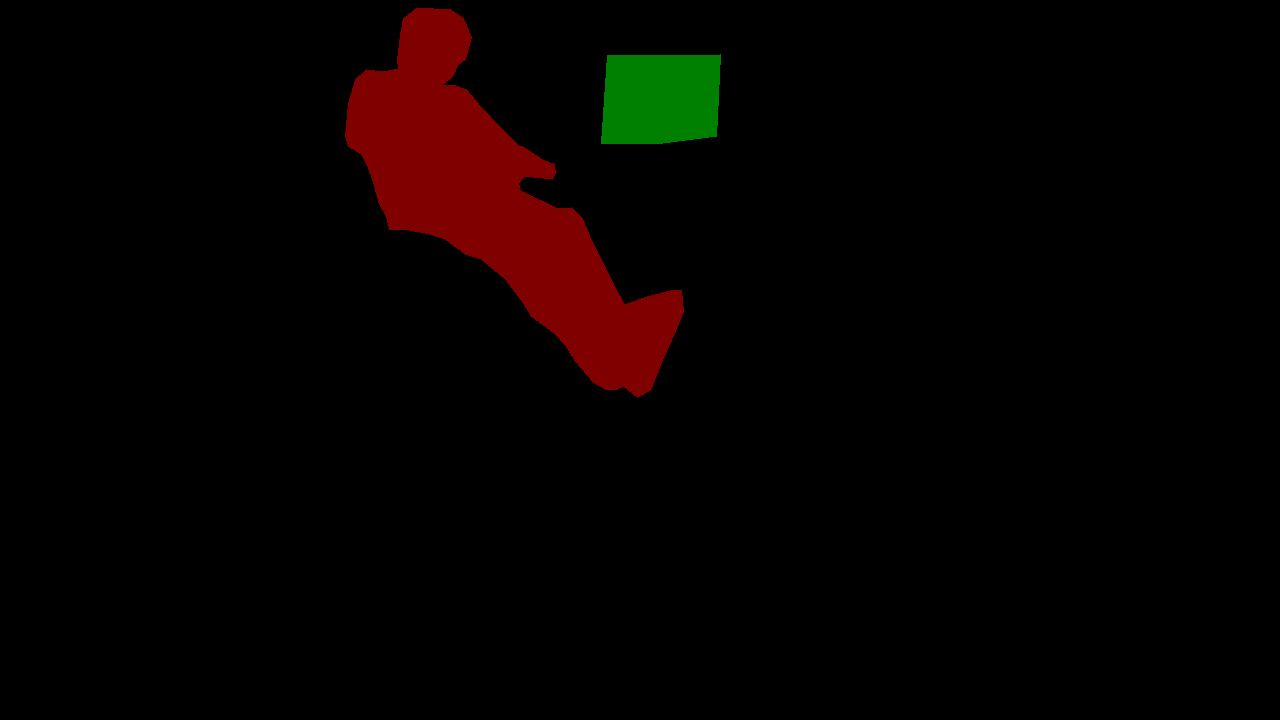person: (345, 7, 683, 397)
tvmonitor: (601, 54, 720, 143)
